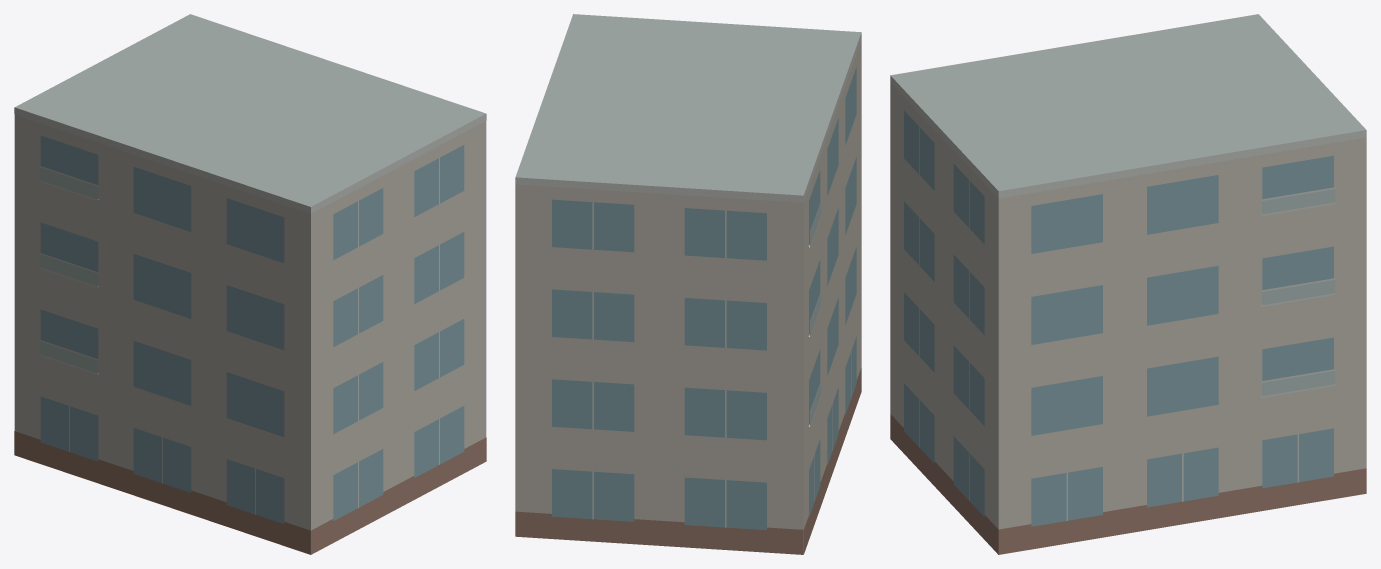
The model's file is residential-410980ac-8aa8-498b-84e7-bd6d31e9e8d9.glb.
3 renders of one model, left to right at view 1: azimuth 30°, elevation 25°; view 2: azimuth 150°, elevation 25°; view 3: azimuth 270°, elevation 25°, orthographic. The views are drawn at different scales.
Parts seen in each view (by area): view 1: residential-410980ac-8aa8-498b-84e7-bd6d31e9e8d9.tmp; view 2: residential-410980ac-8aa8-498b-84e7-bd6d31e9e8d9.tmp; view 3: residential-410980ac-8aa8-498b-84e7-bd6d31e9e8d9.tmp.
Part boxes in pixels (x1,y1,x2,y2): residential-410980ac-8aa8-498b-84e7-bd6d31e9e8d9.tmp: (14, 14, 486, 554); residential-410980ac-8aa8-498b-84e7-bd6d31e9e8d9.tmp: (515, 14, 861, 554); residential-410980ac-8aa8-498b-84e7-bd6d31e9e8d9.tmp: (890, 14, 1366, 554).
Size of the model in its own units: 12.76 by 12.2 by 14.49.
